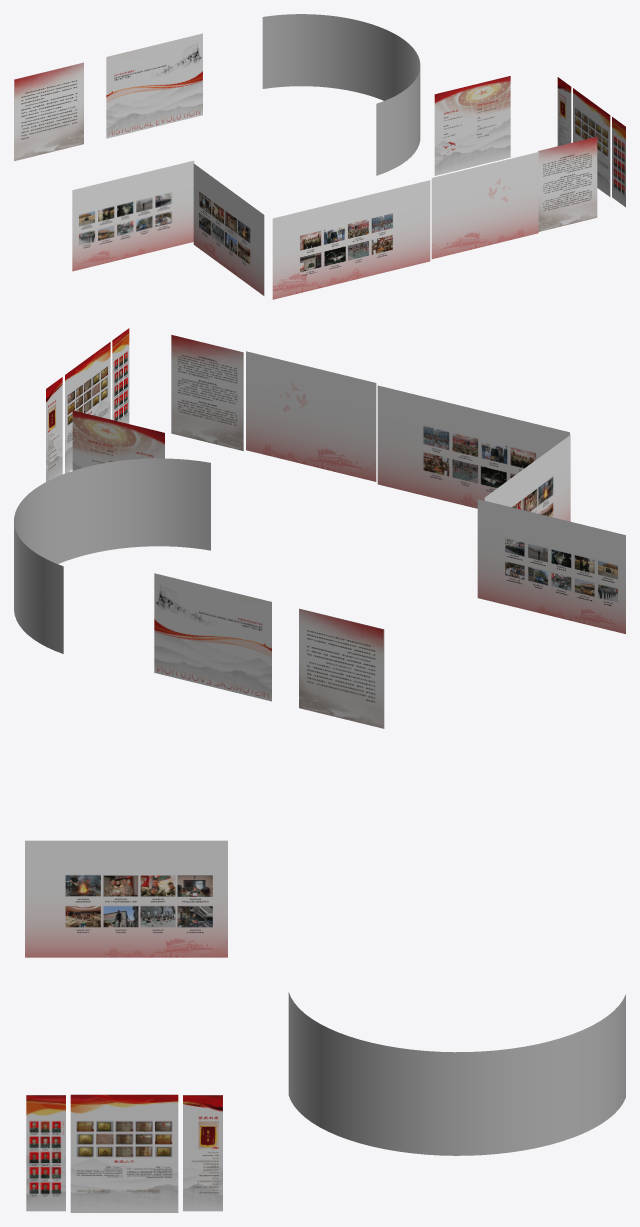
The picture shows the model from 3 angles, top to bottom: view 1: azimuth 30°, elevation 25°; view 2: azimuth 150°, elevation 25°; view 3: azimuth 270°, elevation 25°; orthographic projection. The views are drawn at different scales.
Parts seen in each view (by area): view 1: 7中队_发展历程, 7中队_建设成就, 7中队_官兵风采, 7中队_重大任务, 7中队_历史沿革, 7中队_历任主官, 7中队_军营文化, 7中队_前言, 7中队_未来寄语, 7中队_历史荣誉中, 7中队_历史荣誉右, 7中队_历史荣誉左; view 2: 7中队_发展历程, 7中队_官兵风采, 7中队_建设成就, 7中队_重大任务, 7中队_历史沿革, 7中队_前言, 7中队_未来寄语, 7中队_军营文化, 7中队_历任主官, 7中队_历史荣誉中, 7中队_历史荣誉左, 7中队_历史荣誉右; view 3: 7中队_发展历程, 7中队_军营文化, 7中队_历史荣誉中, 7中队_历史荣誉右, 7中队_历史荣誉左.
Boxes of the visible parts, x1,y1,x2,y2 form: 7中队_发展历程: (262, 14, 420, 175); 7中队_建设成就: (272, 180, 430, 299); 7中队_官兵风采: (72, 160, 194, 271); 7中队_重大任务: (431, 152, 538, 259); 7中队_历史沿革: (106, 33, 202, 138); 7中队_历任主官: (434, 76, 510, 175); 7中队_军营文化: (193, 163, 264, 295); 7中队_前言: (14, 62, 83, 161); 7中队_未来寄语: (538, 136, 597, 231); 7中队_历史荣誉中: (573, 88, 610, 196); 7中队_历史荣誉右: (612, 117, 625, 207); 7中队_历史荣誉左: (557, 77, 571, 145); 7中队_发展历程: (14, 458, 210, 653); 7中队_官兵风采: (477, 499, 625, 634); 7中队_建设成就: (377, 385, 569, 508); 7中队_重大任务: (246, 351, 376, 481); 7中队_历史沿革: (154, 573, 271, 701); 7中队_前言: (299, 608, 384, 728); 7中队_未来寄语: (171, 335, 243, 450); 7中队_军营文化: (484, 435, 570, 521); 7中队_历任主官: (72, 410, 164, 470); 7中队_历史荣誉中: (65, 342, 110, 473); 7中队_历史荣誉左: (46, 377, 62, 481); 7中队_历史荣誉右: (112, 328, 129, 423); 7中队_发展历程: (288, 992, 625, 1155); 7中队_军营文化: (25, 840, 227, 957); 7中队_历史荣誉中: (70, 1094, 178, 1212); 7中队_历史荣誉右: (26, 1095, 65, 1211); 7中队_历史荣誉左: (183, 1095, 222, 1211).
Bounding box in the file's own units: 1029 × 170 × 789.
